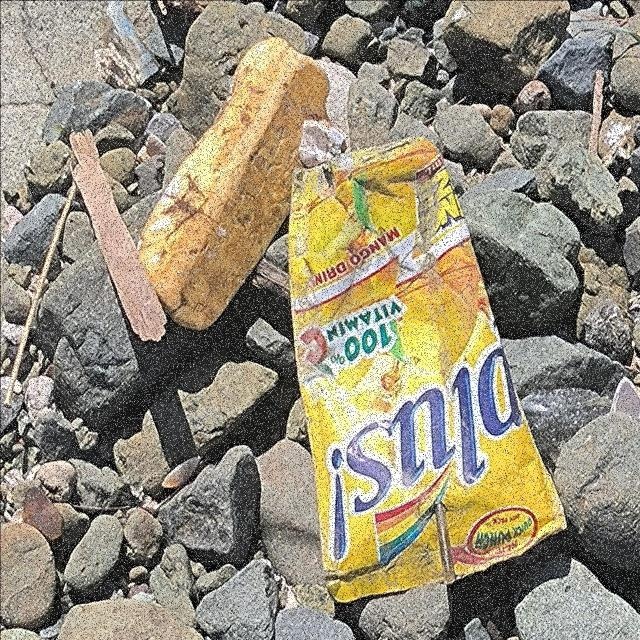plastic_waste: (291, 134, 571, 610)
